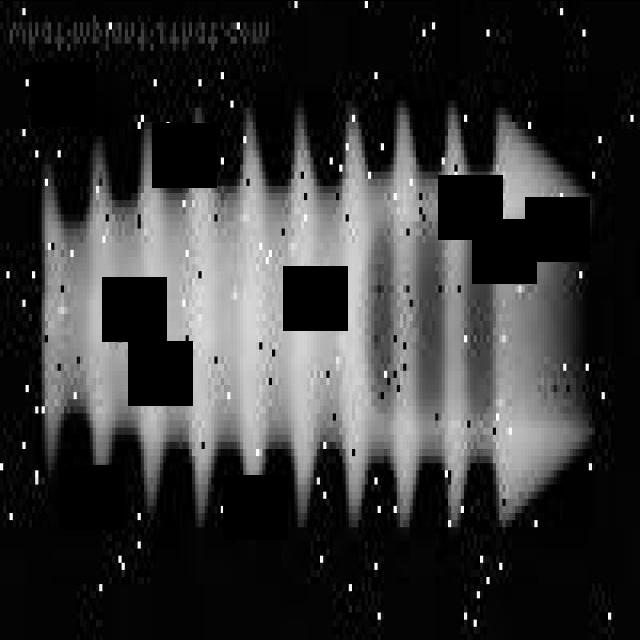OsseoLink Implant: (35, 92, 595, 533)
